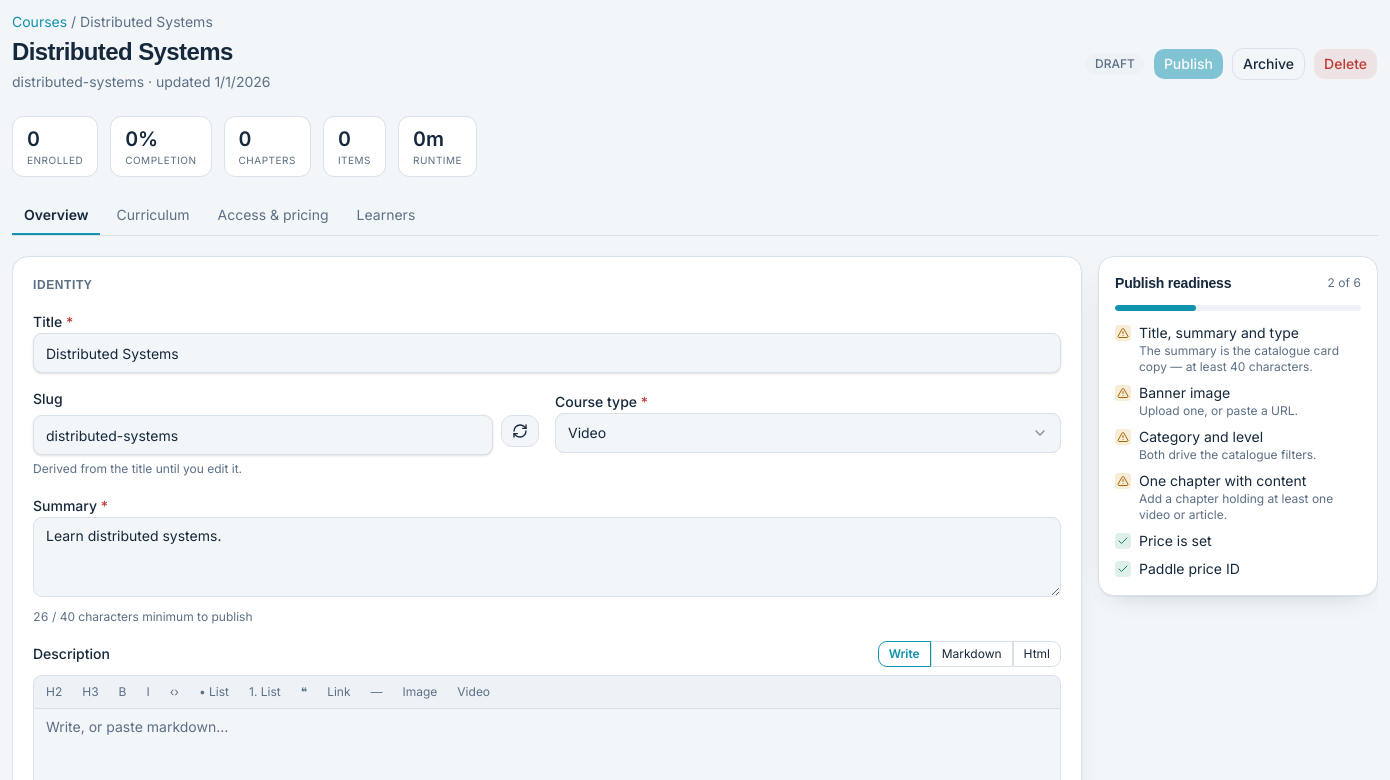
CourseDetailClient — Paddle field gating (course is already premium) › still renders both Paddle inputs, enabled, for an admin
This screenshot has width=1390, height=780.
Check: the field labelled "Title *" is shown, box [33, 333, 1061, 373]
Click the tab "Access & pricing" at [273, 216], box [206, 197, 341, 235]
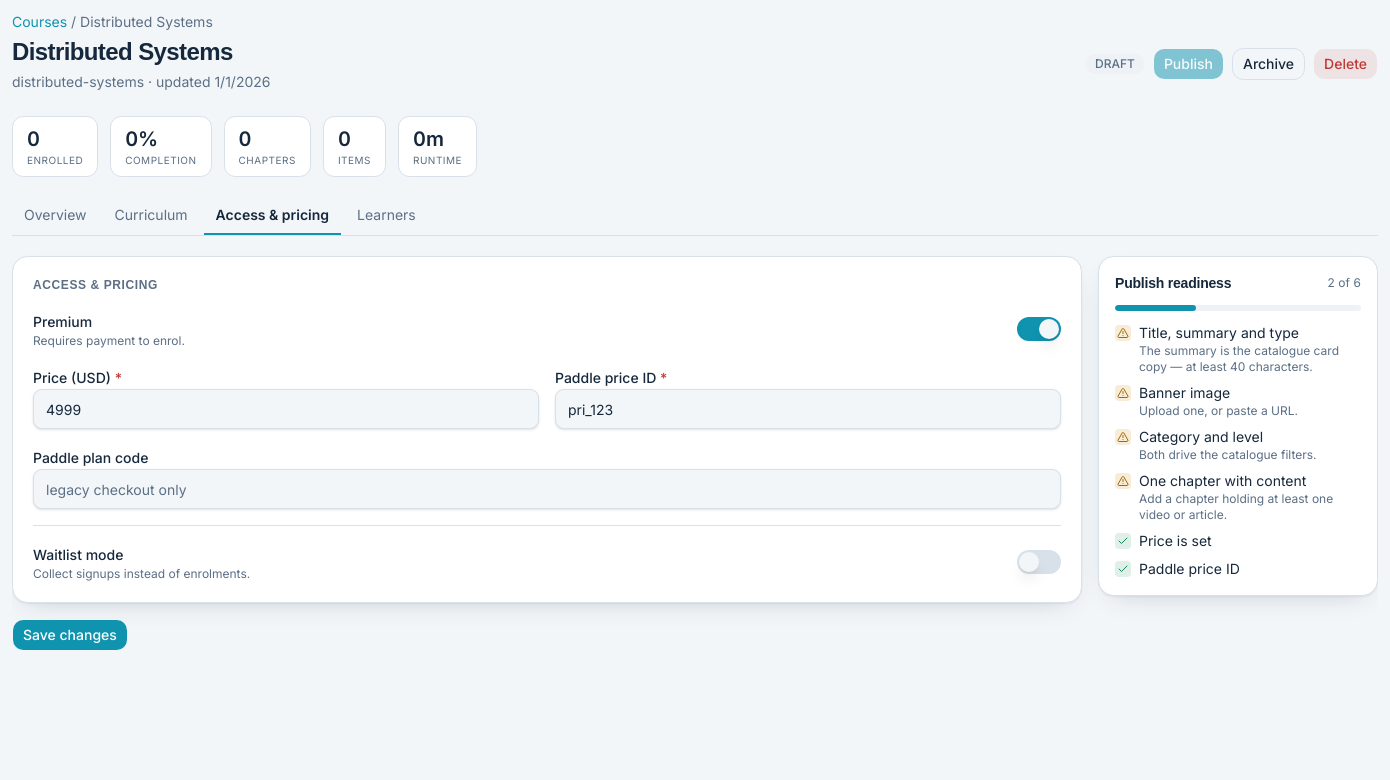
Check: the field labelled "Paddle price ID *" is enabled, box [555, 389, 1061, 429]
Check: the field labelled "Paddle plan code" is enabled, box [33, 469, 1061, 509]
